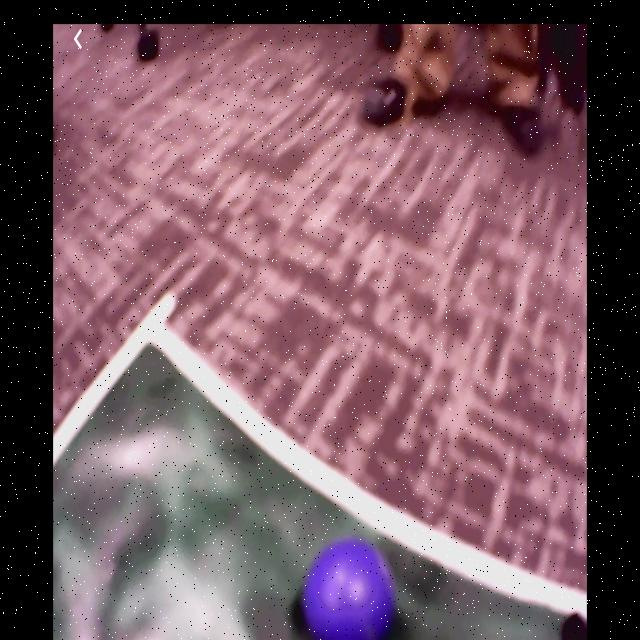ball: (302, 539, 395, 640)
